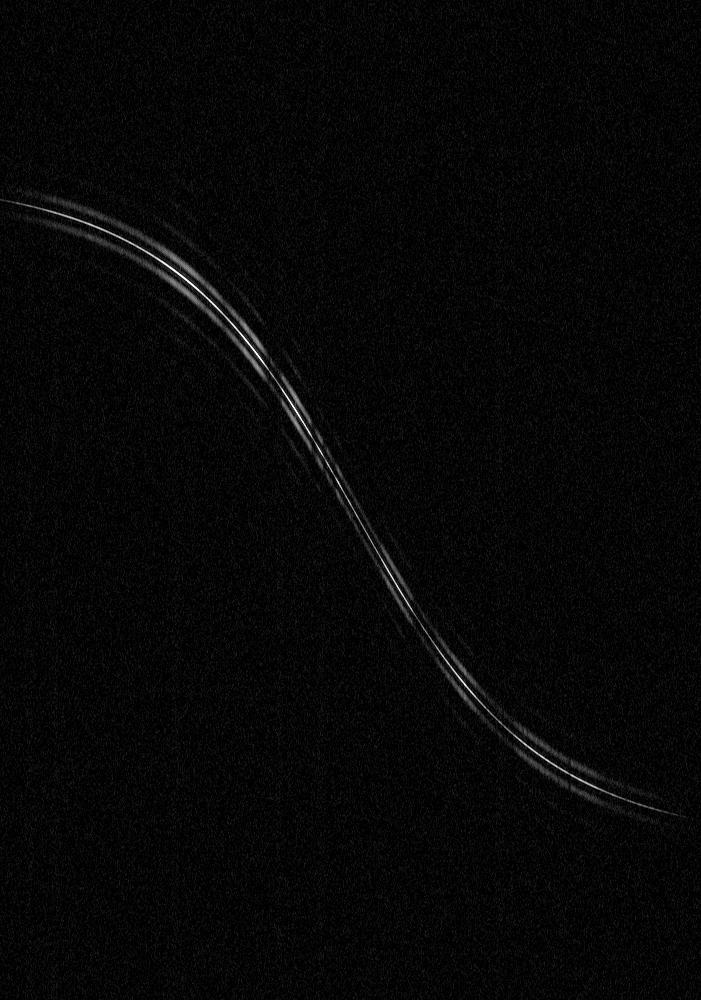signal: (0, 0, 700, 999)
